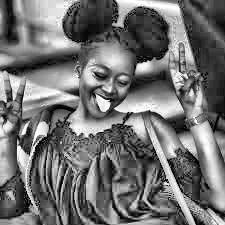happy: (56, 14, 167, 136)
